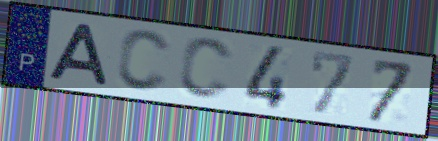4: (241, 44, 290, 112)
7: (308, 48, 356, 117), (366, 58, 416, 124)
A: (45, 21, 112, 88)
C: (113, 28, 174, 95), (175, 36, 236, 103)
